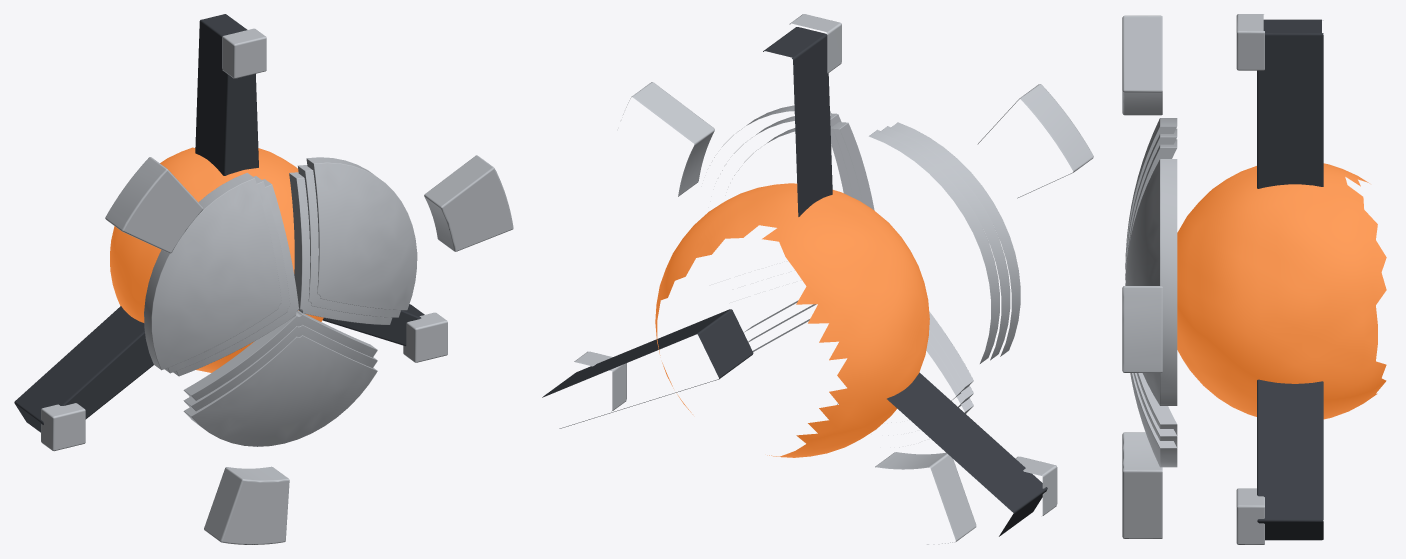
Rendered from core.glb.
The picture shows the model from 3 angles, left to right: view 1: azimuth 30°, elevation 25°; view 2: azimuth 150°, elevation 25°; view 3: azimuth 270°, elevation 25°; orthographic projection. The views are drawn at different scales.
Visible parts, largest first — view 1: part-shell-s3, part-frame, part-outer-shell, part-shell, part-core, part-shell-s2; view 2: part-core, part-frame, part-outer-shell, part-shell, part-shell-s3, part-shell-s2; view 3: part-core, part-frame, part-outer-shell, part-shell-s3, part-shell, part-shell-s2.
Boxes of the visible parts, x1,y1,x2,y2 form: part-shell-s3: [144, 157, 417, 446]; part-frame: [14, 14, 447, 451]; part-outer-shell: [105, 155, 513, 544]; part-shell: [173, 172, 392, 400]; part-core: [110, 147, 323, 372]; part-shell-s2: [164, 165, 400, 411]; part-core: [655, 183, 929, 457]; part-frame: [542, 14, 1057, 536]; part-outer-shell: [623, 82, 1093, 544]; part-shell: [734, 122, 999, 422]; part-shell-s3: [714, 105, 1020, 447]; part-shell-s2: [722, 113, 1010, 435]; part-core: [1177, 163, 1386, 419]; part-frame: [1236, 14, 1323, 544]; part-outer-shell: [1122, 15, 1162, 538]; part-shell-s3: [1125, 118, 1177, 467]; part-shell: [1126, 139, 1177, 435]; part-shell-s2: [1125, 128, 1177, 447].
Bounding box in the file's own units: 370 × 396 × 184.
